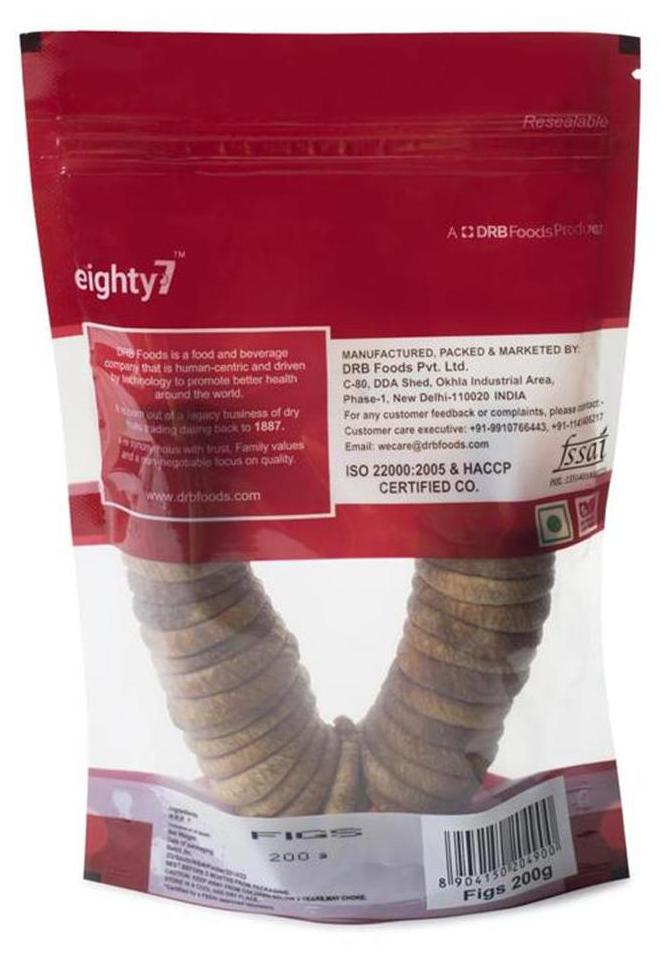fssai: (553, 432, 610, 468)
